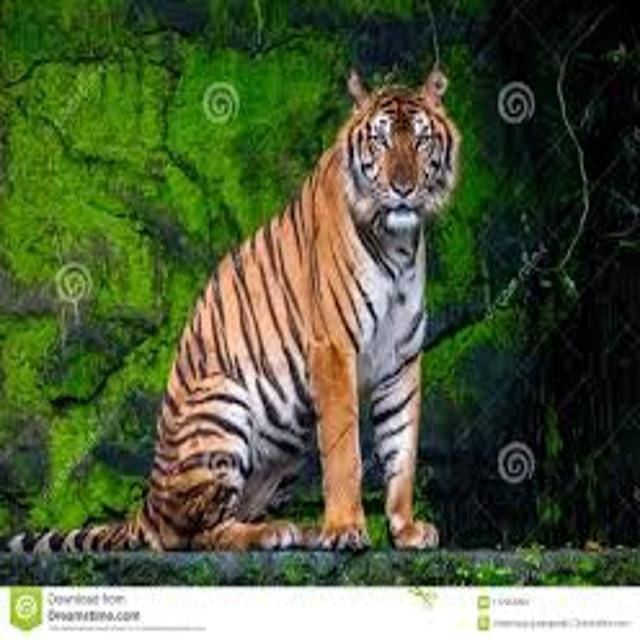tiger: (1, 51, 493, 581)
